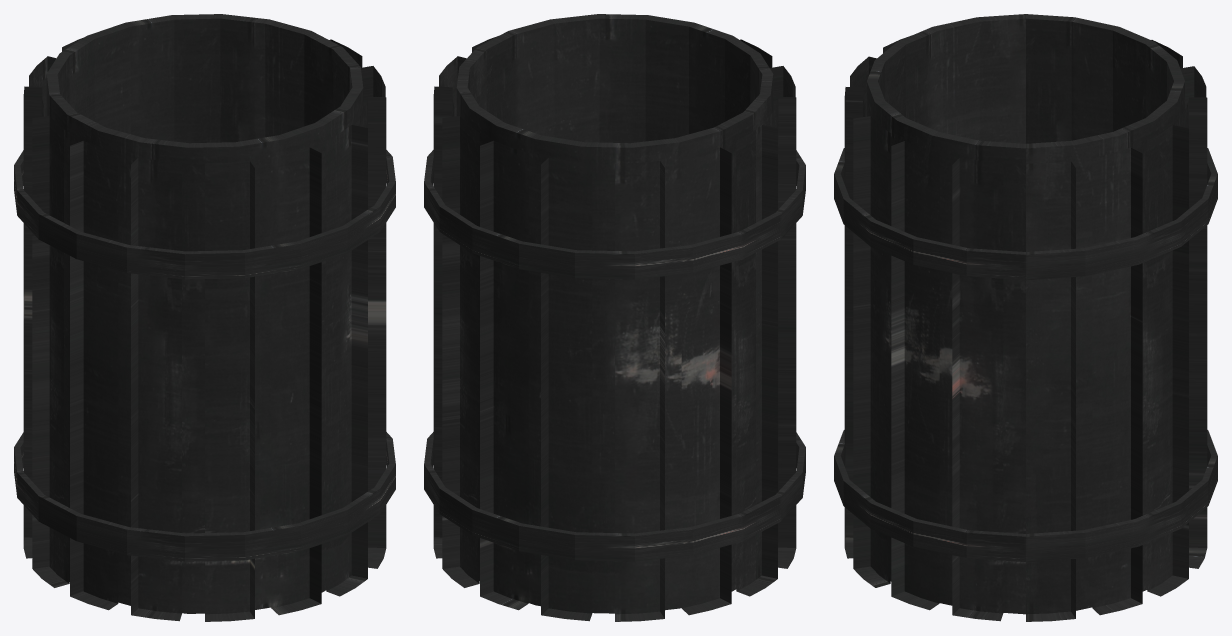
File: trash_can.fbx
3 views of the same model, side by side, from view 1: azimuth 30°, elevation 25°; view 2: azimuth 150°, elevation 25°; view 3: azimuth 270°, elevation 25° (orthographic).
Parts seen in each view (by area): view 1: trash_can; view 2: trash_can; view 3: trash_can.
Boxes of the visible parts, box(x1,y1,x2,y2) form: trash_can: box(14, 14, 395, 621); trash_can: box(424, 14, 805, 621); trash_can: box(834, 14, 1217, 621).
Size of the model in its own units: 5.25 by 7.04 by 5.25.
